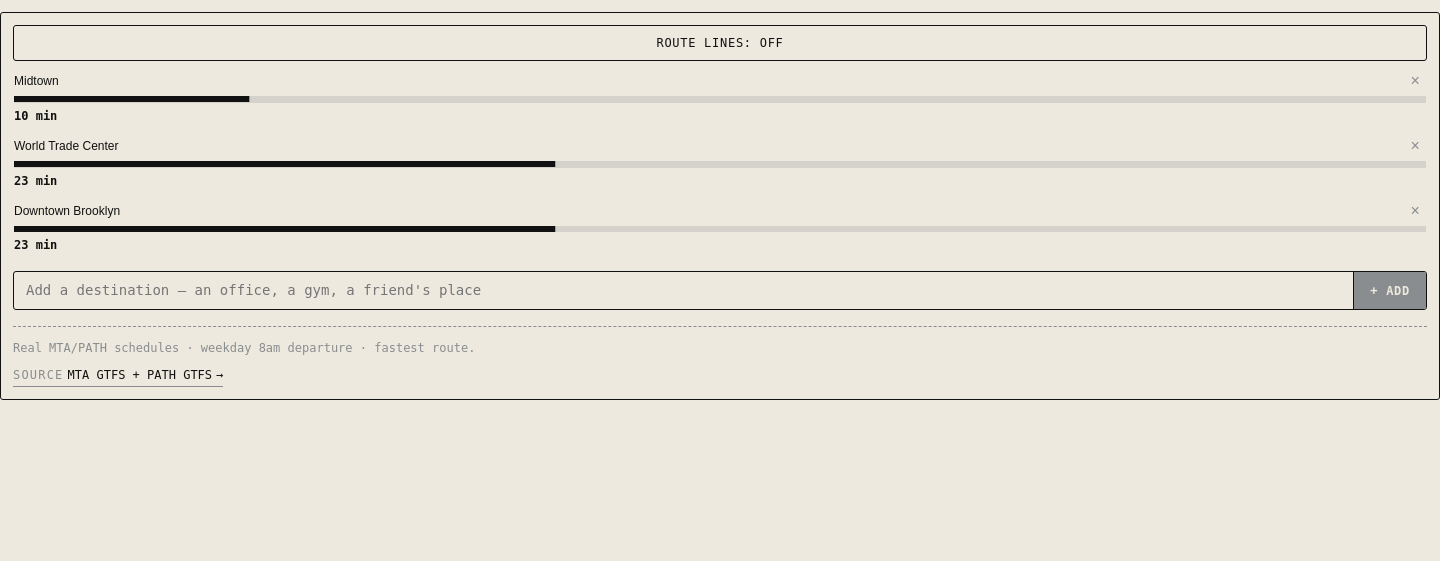
Scenario: GettingAroundField -- Wave 3 editable destinations › an unreachable custom destination shows the real reason, never a fabricated minute value
The width and height of the screenshot is (1440, 561).
Type "131 Huguenot Ave, Staten Island" into the dropdown labelled "Add a destination — an office, a gym, a friend's place" at (684,291), box [14,272,1353,309]
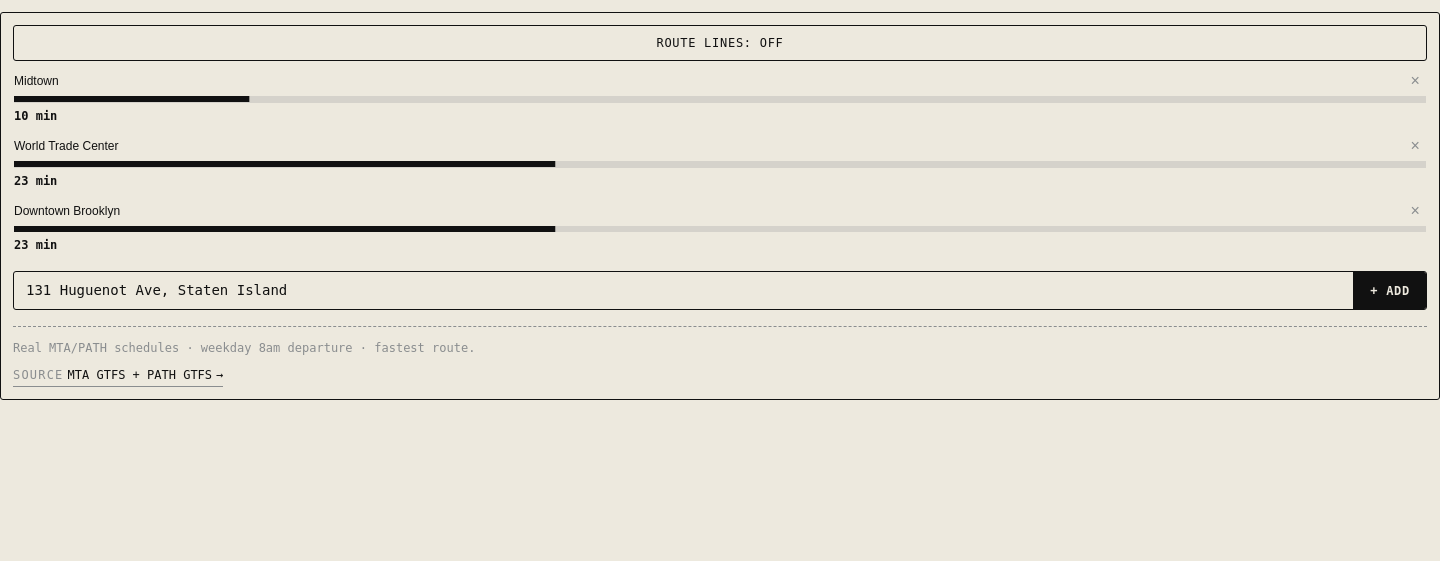
Click the button "+ add" at (1390,291), box [1353,272,1426,309]
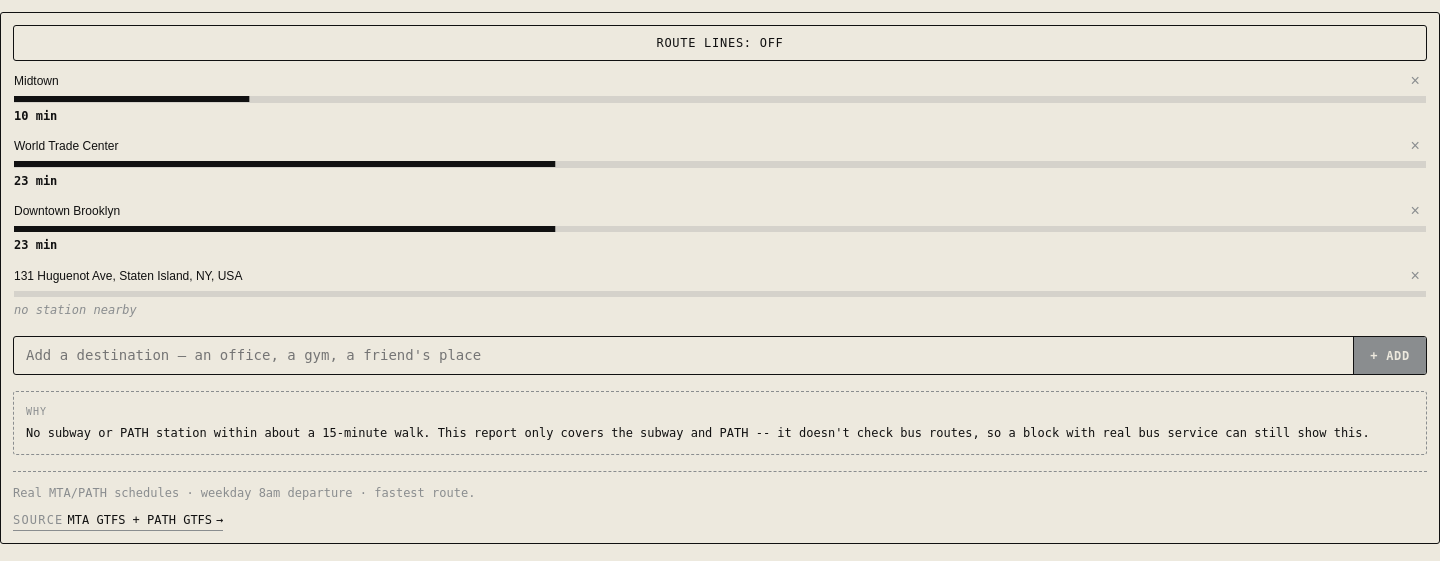
Now the text "no station nearby" is shown, box [14,303,137,317]
Now the text "about a 15-minute walk" is shown, box [26,426,1370,440]
